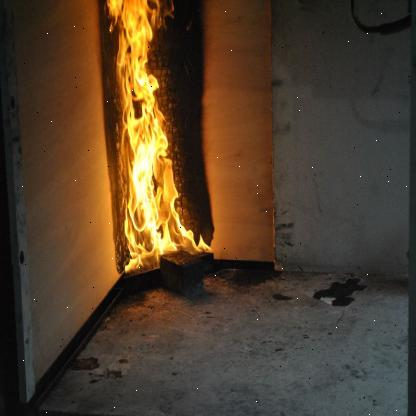fire: (102, 3, 210, 273)
